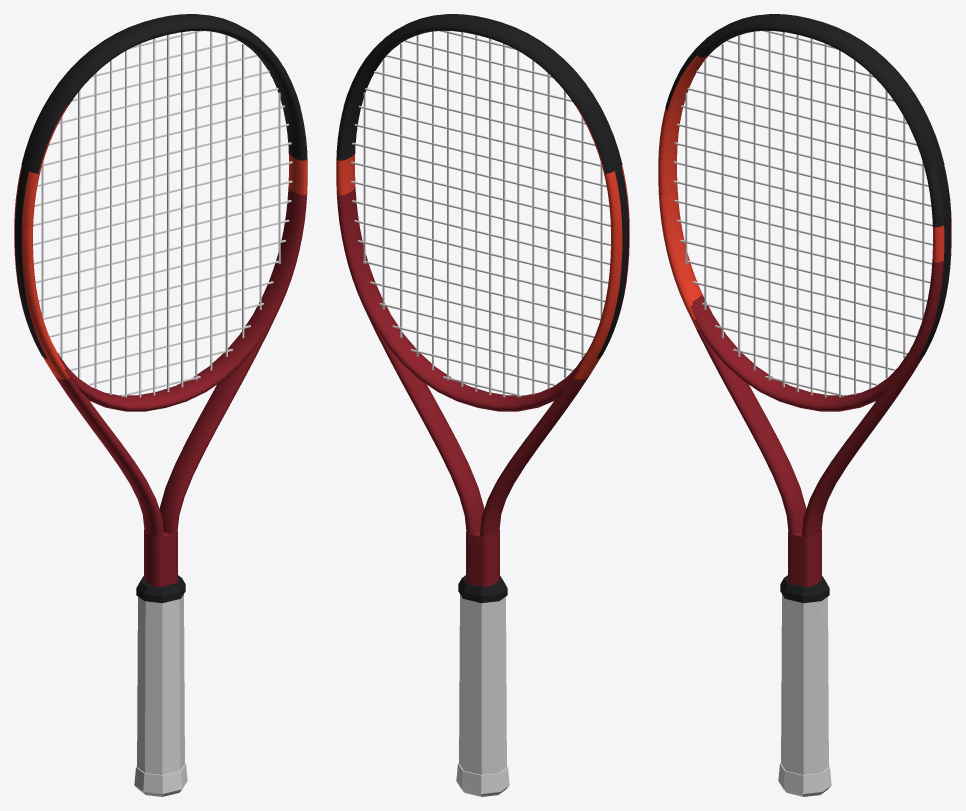
File: dunlop-cx-400-2024.glb
3 renders of one model, left to right at view 1: azimuth 30°, elevation 25°; view 2: azimuth 150°, elevation 25°; view 3: azimuth 330°, elevation 25°, orthographic.
Visible parts, largest first — view 1: frame, strings_mains, strings_crosses, grip, bumper, grommets, butt_cap, collar; view 2: frame, strings_mains, strings_crosses, grip, bumper, grommets, butt_cap, collar; view 3: frame, strings_mains, strings_crosses, grip, bumper, grommets, butt_cap, collar.
Part boxes in pixels (x1,y1,x2,y2): frame: (14, 28, 307, 586); strings_mains: (41, 31, 280, 397); strings_crosses: (33, 30, 292, 396); grip: (137, 594, 184, 774); bumper: (21, 14, 300, 173); grommets: (15, 166, 47, 359); butt_cap: (134, 763, 187, 796); collar: (136, 575, 185, 603); frame: (336, 28, 629, 586); strings_mains: (363, 31, 602, 397); strings_crosses: (351, 30, 610, 397); grip: (459, 594, 506, 774); bumper: (343, 14, 622, 173); grommets: (596, 166, 628, 359); butt_cap: (456, 763, 509, 796); collar: (458, 575, 507, 603); frame: (658, 28, 951, 586); strings_mains: (685, 31, 924, 397); strings_crosses: (673, 30, 932, 396); grip: (781, 594, 828, 774); bumper: (665, 14, 944, 173); grommets: (918, 166, 950, 359); butt_cap: (778, 763, 831, 796); collar: (780, 575, 829, 603).
Size of the model in its own units: 0.2687 by 0.6861 by 0.0377.
